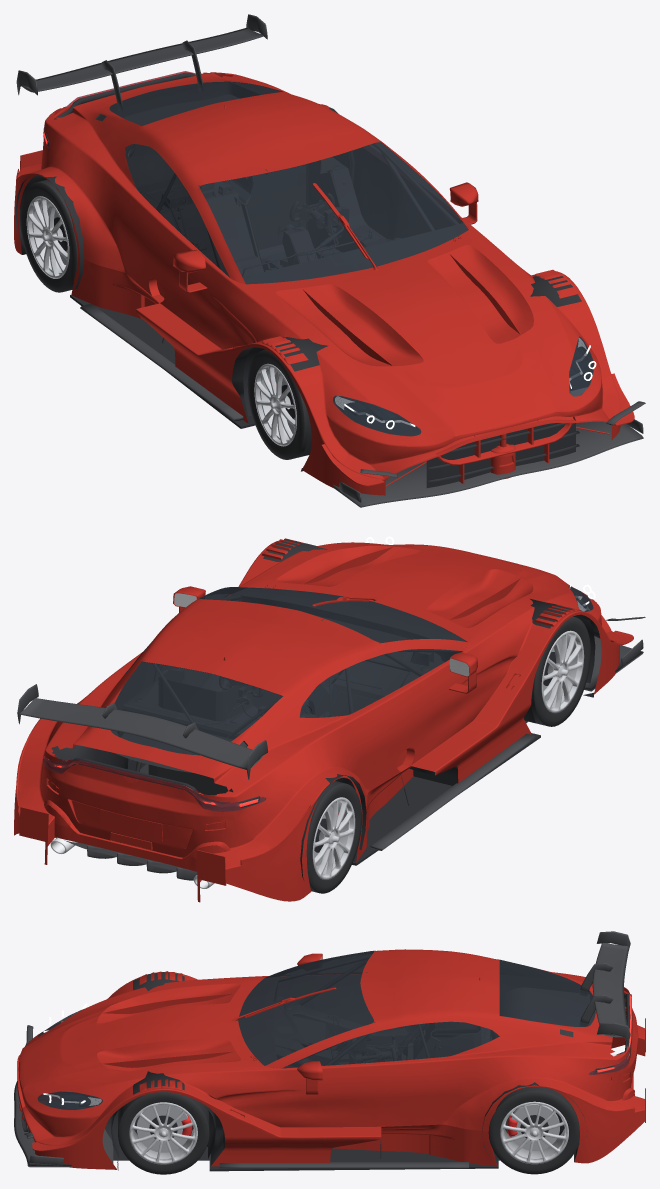
Rendered from kestrel_gt_hero.glb.
The picture shows the model from 3 angles, top to bottom: view 1: azimuth 30°, elevation 25°; view 2: azimuth 150°, elevation 25°; view 3: azimuth 270°, elevation 25°; orthographic projection. The views are drawn at different scales.
Visible parts, largest first — view 1: body, glass_windows, interior_cabin, splitter_carbon, wing_assembly, grille_assembly, wheel_well_liners, wheel_RR_rim, wheel_FR_rim, wheel_RR_tyre, wheel_FR_tyre, side_skirts_carbon (+6 smaller); view 2: body, glass_windows, interior_cabin, wing_assembly, wheel_well_liners, underbody__26, wheel_RR_rim, wheel_FR_rim, wheel_RR_tyre, wheel_FR_tyre, side_skirts_carbon, diffuser_carbon (+5 smaller); view 3: body, glass_windows, interior_cabin, wing_assembly, wheel_RL_tyre, wheel_FL_tyre, wheel_well_liners, wheel_RL_rim, wheel_FL_rim, underbody__26, side_skirts_carbon, splitter_carbon (+5 smaller).
Part boxes in pixels (bbox=[...]): body: bbox=[14, 72, 634, 495]; glass_windows: bbox=[43, 71, 593, 436]; interior_cabin: bbox=[95, 81, 468, 283]; splitter_carbon: bbox=[333, 401, 645, 507]; wing_assembly: bbox=[16, 14, 267, 110]; grille_assembly: bbox=[426, 423, 579, 487]; wheel_well_liners: bbox=[15, 107, 592, 456]; wheel_RR_rim: bbox=[26, 196, 69, 278]; wheel_FR_rim: bbox=[254, 363, 296, 446]; wheel_RR_tyre: bbox=[20, 180, 77, 292]; wheel_FR_tyre: bbox=[247, 349, 307, 459]; side_skirts_carbon: bbox=[80, 304, 243, 421]; body: bbox=[14, 538, 633, 902]; glass_windows: bbox=[43, 586, 593, 811]; interior_cabin: bbox=[105, 587, 467, 795]; wing_assembly: bbox=[17, 684, 267, 780]; wheel_well_liners: bbox=[51, 539, 595, 879]; underbody__26: bbox=[75, 614, 600, 865]; wheel_RR_rim: bbox=[312, 797, 355, 879]; wheel_FR_rim: bbox=[541, 630, 584, 713]; wheel_RR_tyre: bbox=[306, 781, 361, 893]; wheel_FR_tyre: bbox=[531, 616, 590, 726]; side_skirts_carbon: bbox=[370, 733, 536, 850]; diffuser_carbon: bbox=[55, 837, 197, 880]; body: bbox=[17, 949, 645, 1169]; glass_windows: bbox=[37, 950, 632, 1110]; interior_cabin: bbox=[238, 951, 595, 1067]; wing_assembly: bbox=[579, 931, 630, 1045]; wheel_RL_tyre: bbox=[488, 1087, 579, 1174]; wheel_FL_tyre: bbox=[118, 1092, 209, 1174]; wheel_well_liners: bbox=[111, 972, 583, 1160]; wheel_RL_rim: bbox=[500, 1101, 568, 1164]; wheel_FL_rim: bbox=[129, 1102, 197, 1164]; underbody__26: bbox=[105, 1113, 578, 1171]; side_skirts_carbon: bbox=[219, 1162, 468, 1168]; splitter_carbon: bbox=[14, 1025, 113, 1167].
Size of the model in its own units: 2.03 by 1.11 by 4.51.
